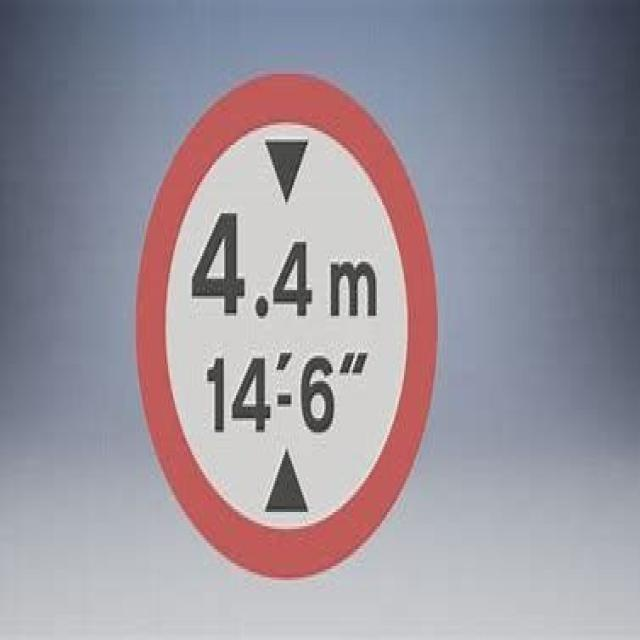HEIGHT_LIMIT: (133, 66, 441, 580)
